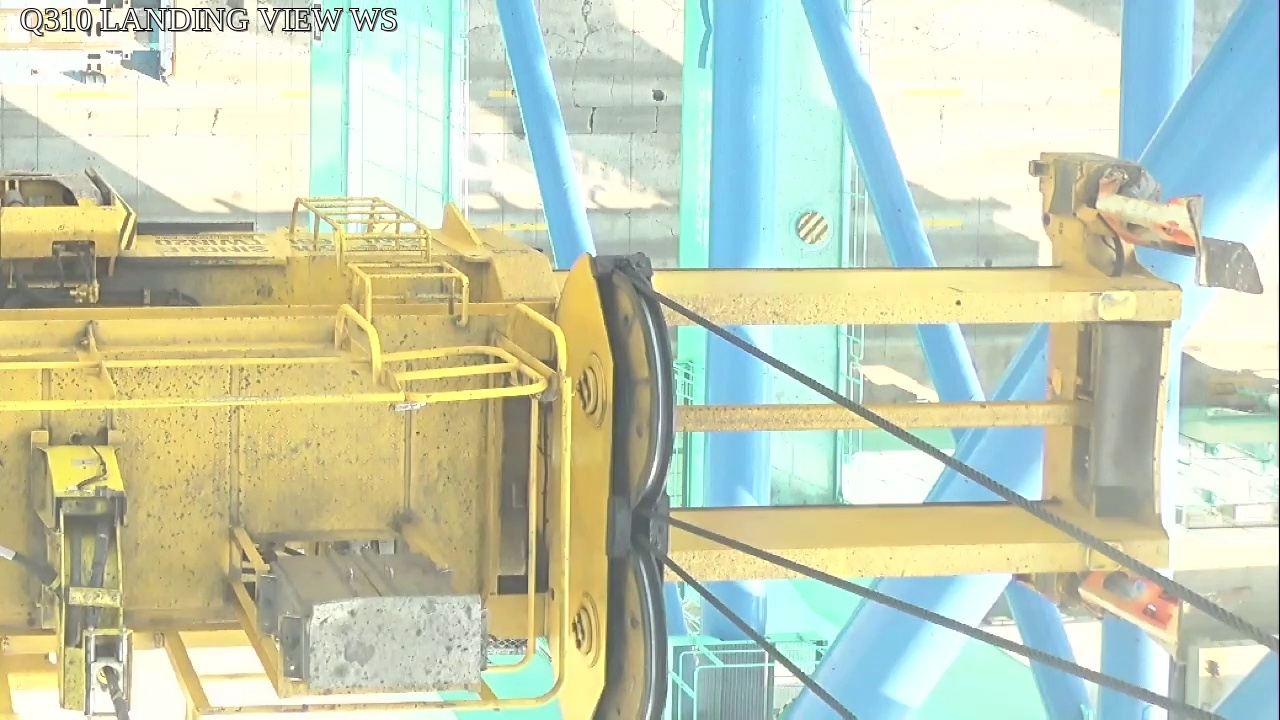right: (546, 254, 671, 720)
